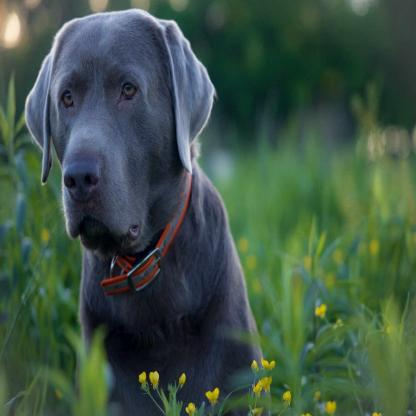Labarador Retriever: (20, 10, 261, 416)
